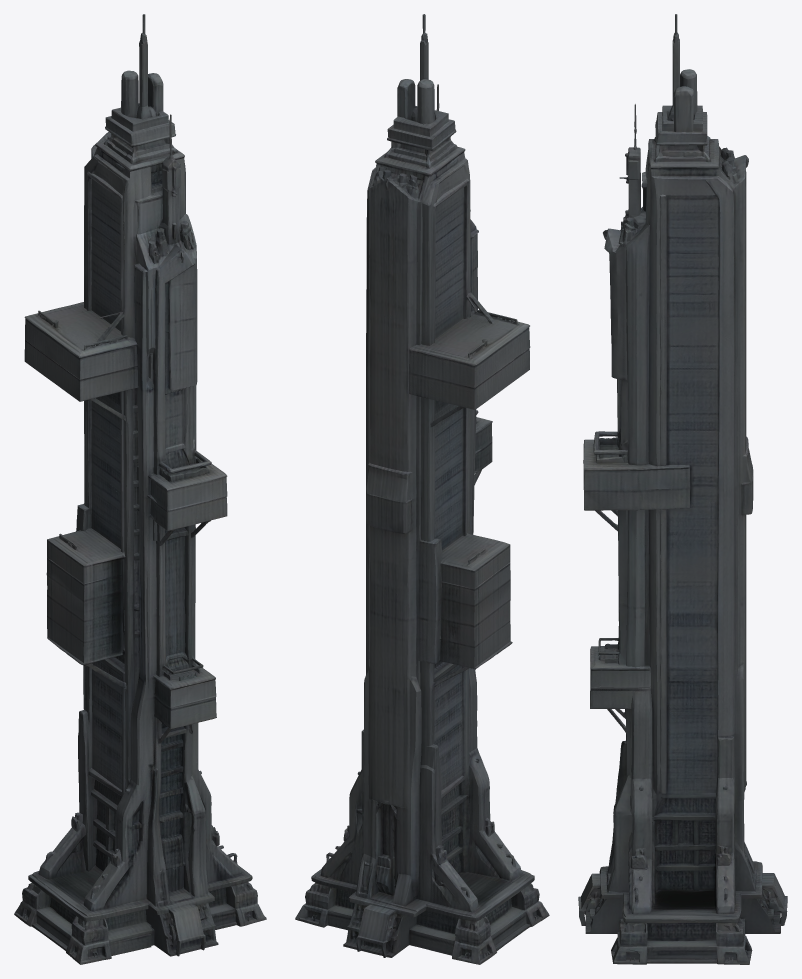
Rendered from scene-detail.glb.
The picture shows the model from 3 angles, left to right: view 1: azimuth 30°, elevation 25°; view 2: azimuth 150°, elevation 25°; view 3: azimuth 270°, elevation 25°; orthographic projection.
Parts seen in each view (by area): view 1: model; view 2: model; view 3: model.
Boxes of the visible parts, bbox=[...] form: model: bbox=[14, 14, 266, 964]; model: bbox=[295, 14, 549, 964]; model: bbox=[578, 14, 787, 964].
Bounding box in the file's own units: 0.4117 × 1.9 × 0.3973.
1 material, 1 textured.
